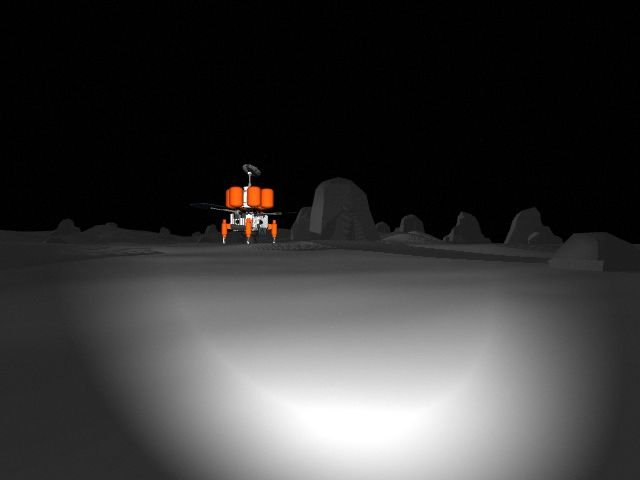homebase: (194, 160, 296, 248)
